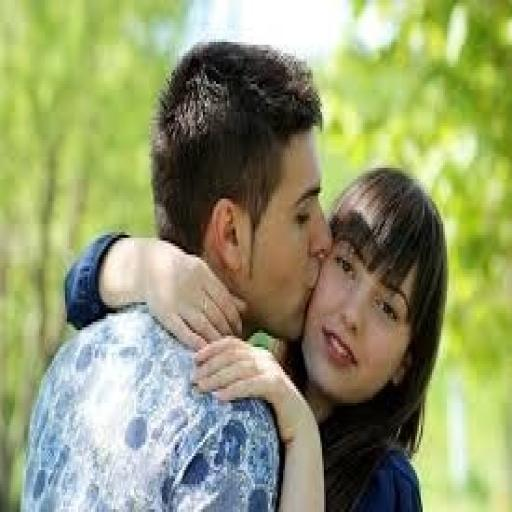hugging: (20, 34, 452, 509)
